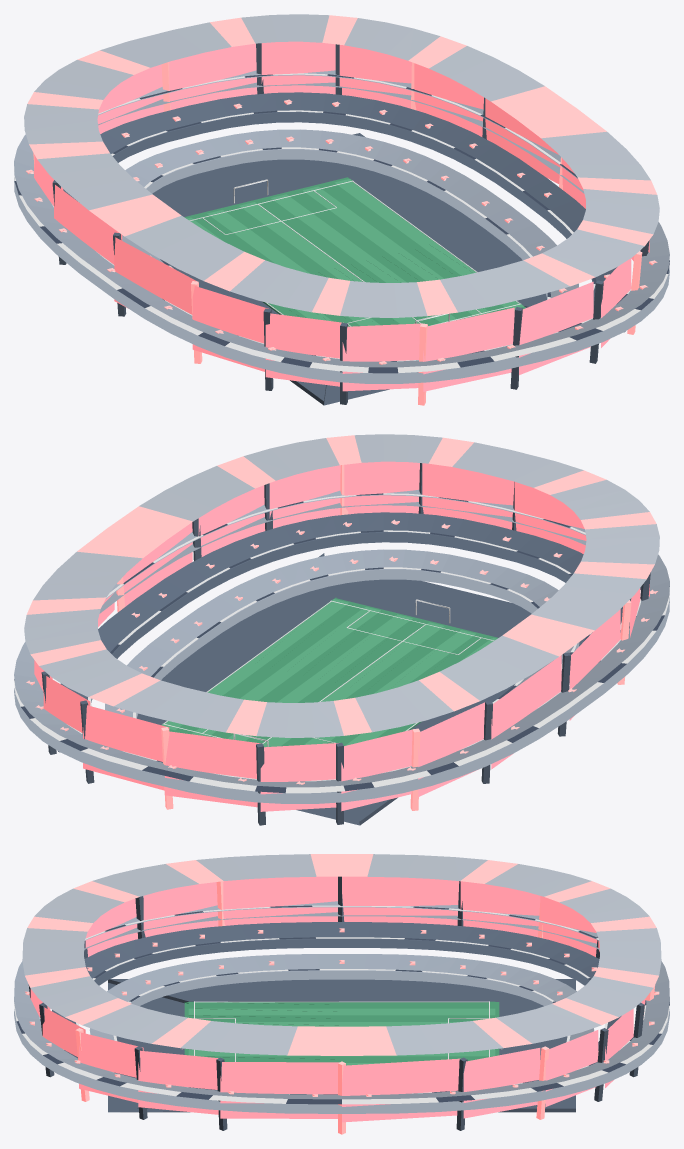
The model's file is arena-mrv.glb.
3 views of the same model, one above another, from view 1: azimuth 30°, elevation 25°; view 2: azimuth 150°, elevation 25°; view 3: azimuth 270°, elevation 25° (orthographic). The views are drawn at different scales.
Visible parts, largest first — view 1: Arena MRV; view 2: Arena MRV; view 3: Arena MRV.
Boxes of the visible parts, x1,y1,x2,y2 form: Arena MRV: [14, 14, 669, 405]; Arena MRV: [14, 434, 669, 825]; Arena MRV: [14, 854, 669, 1134].
Bounding box in the file's own units: 61.31 × 13.1 × 81.33.
